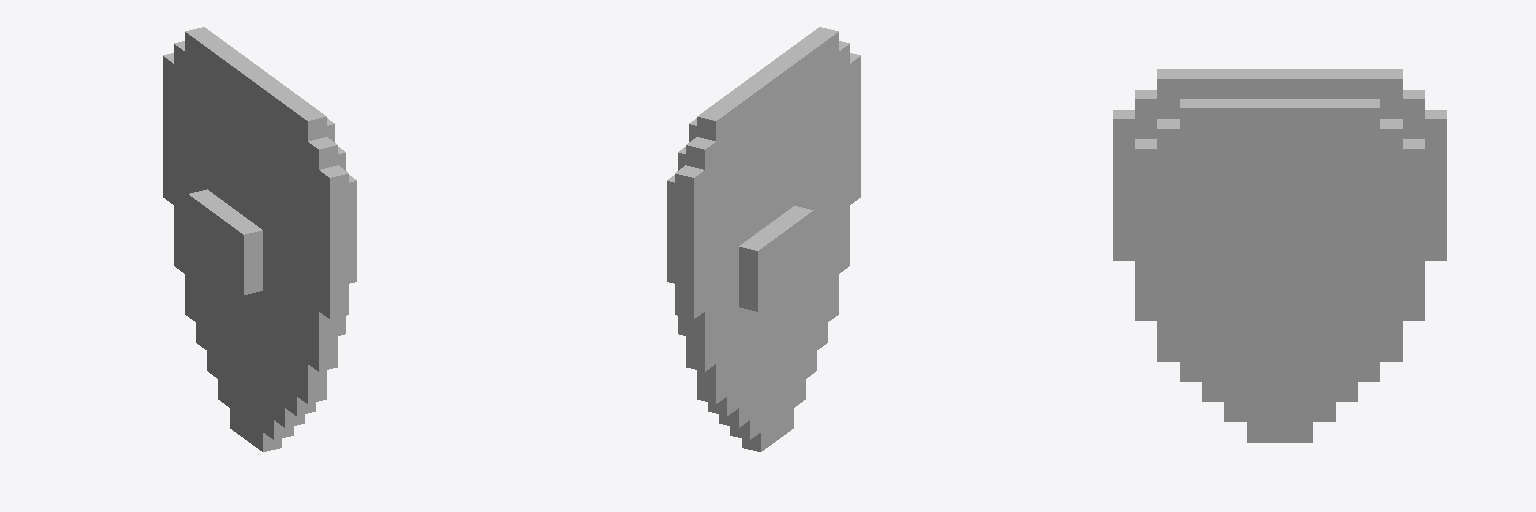
File: dwarfshield.obj
3 renders of one model, left to right at view 1: azimuth 30°, elevation 25°; view 2: azimuth 150°, elevation 25°; view 3: azimuth 270°, elevation 25°, orthographic.
Visible parts, largest first — view 1: DwarfAsWarrior; view 2: DwarfAsWarrior; view 3: DwarfAsWarrior.
Part boxes in pixels (x1,y1,x2,y2): DwarfAsWarrior: (163, 27, 356, 451); DwarfAsWarrior: (667, 27, 860, 451); DwarfAsWarrior: (1113, 69, 1446, 442).
Size of the model in its own units: 3 by 18 by 15.